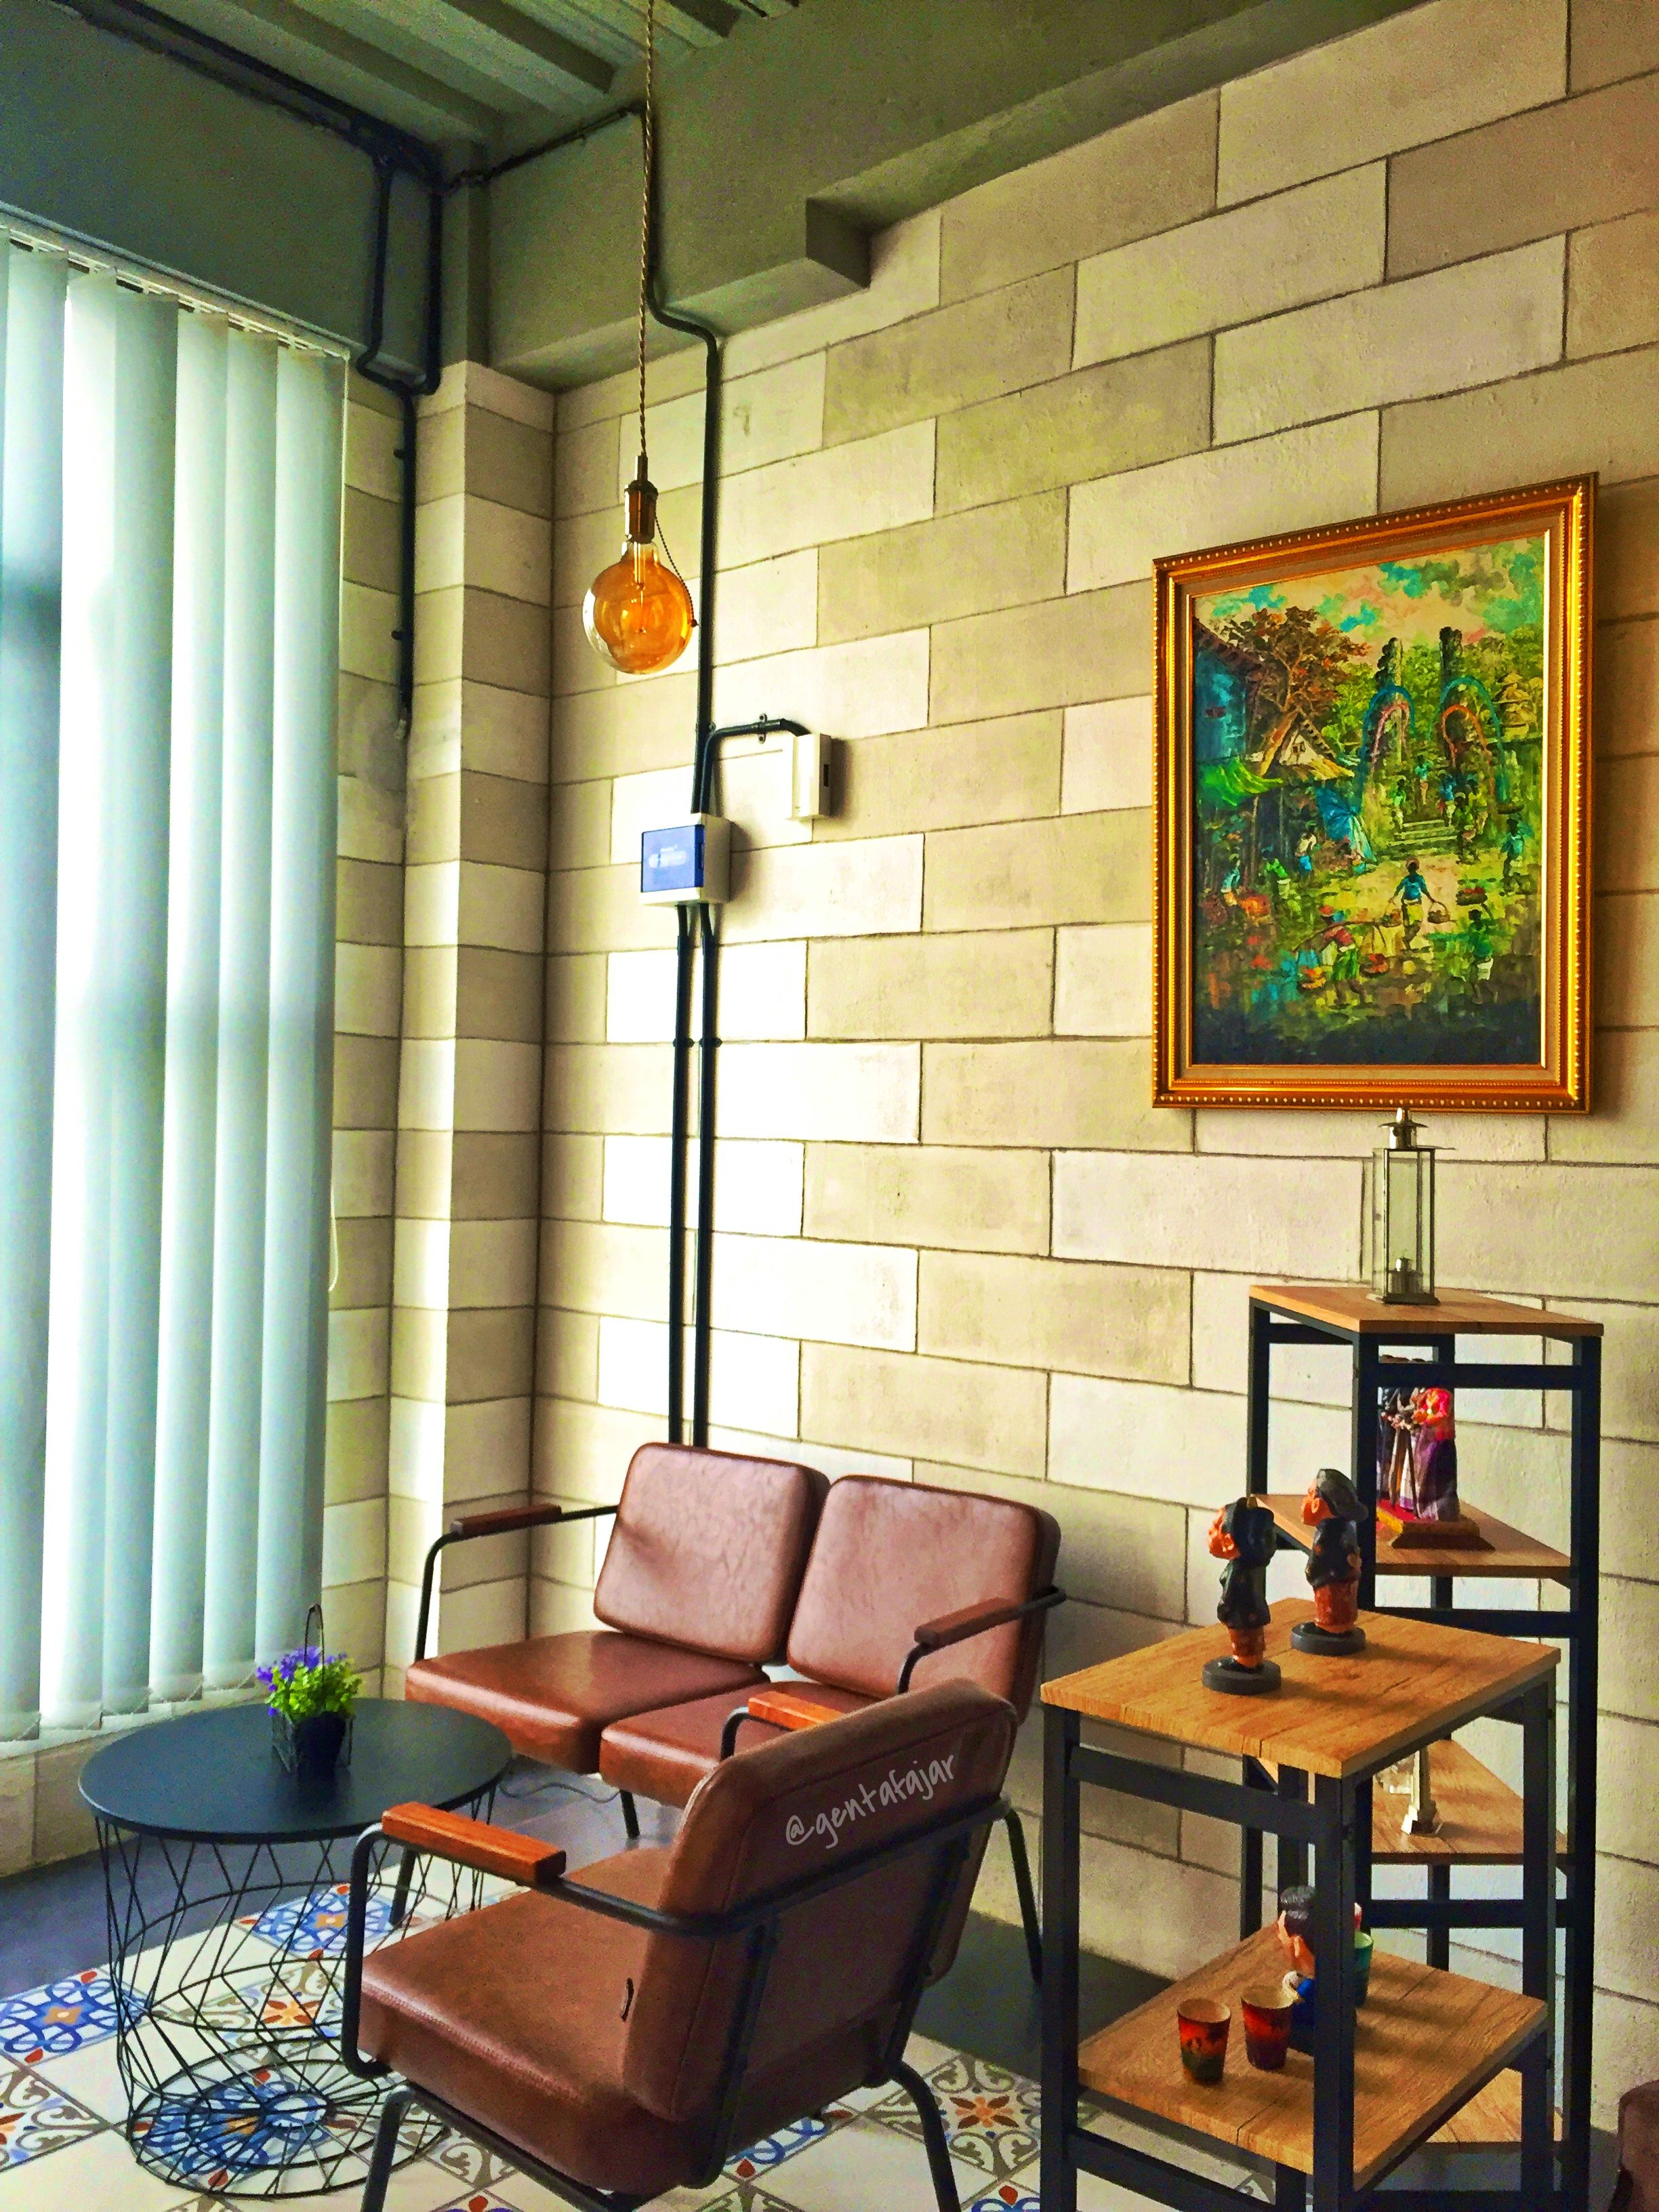kursi: (333, 1672, 1023, 2212), (406, 1439, 1056, 1839)
lukisan: (1148, 465, 1601, 1125)
meja: (64, 1679, 507, 2200)
